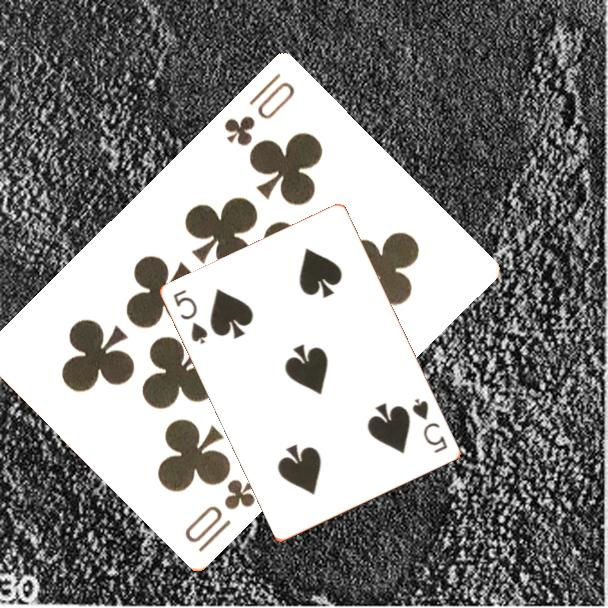c10: (181, 476, 259, 556), (220, 70, 298, 150)
s05: (409, 395, 451, 456), (170, 286, 211, 347)
